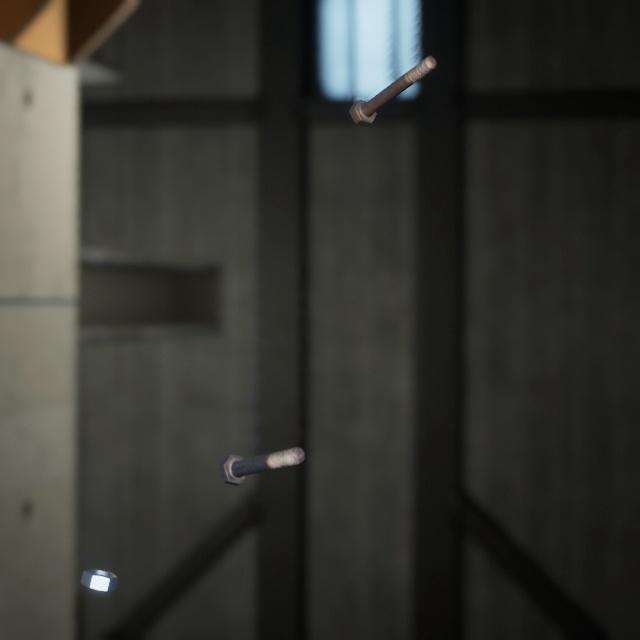bolt: (345, 41, 441, 120), (214, 421, 309, 469)
nut: (76, 541, 122, 573)
